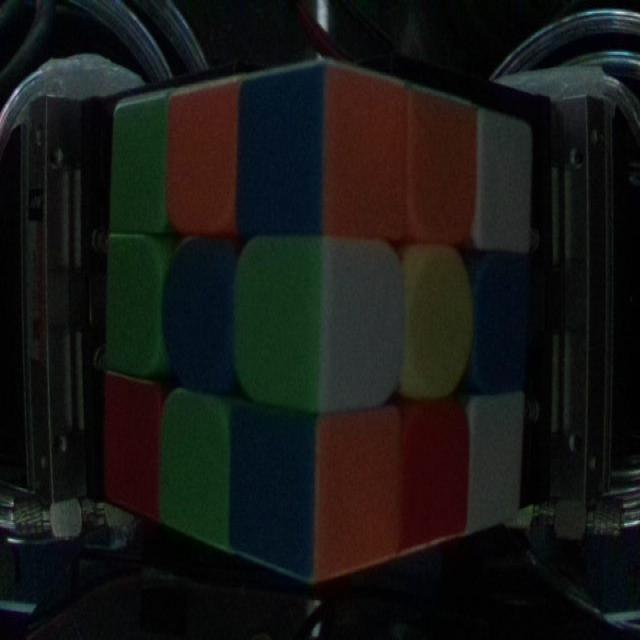b: (232, 412, 312, 574), (242, 79, 323, 236), (165, 237, 238, 395), (475, 259, 525, 383)
g: (238, 240, 324, 402), (164, 396, 228, 539), (107, 232, 161, 367), (111, 99, 167, 225)
o: (313, 407, 399, 565), (329, 68, 403, 237), (408, 92, 474, 242), (168, 100, 234, 226)
r: (402, 408, 468, 543), (103, 376, 163, 502)
w: (324, 237, 403, 402), (480, 113, 530, 249), (469, 399, 521, 524)
y: (404, 238, 471, 400)
